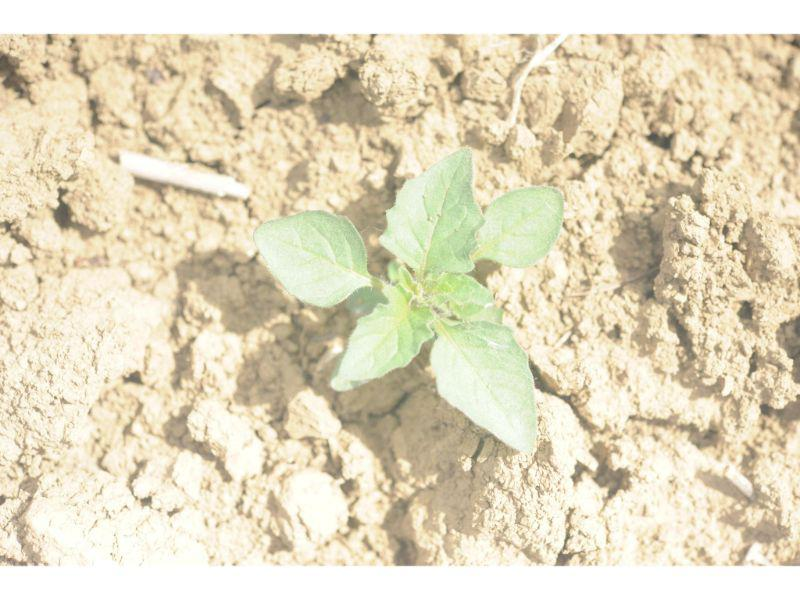nightshade: (255, 147, 564, 455)
